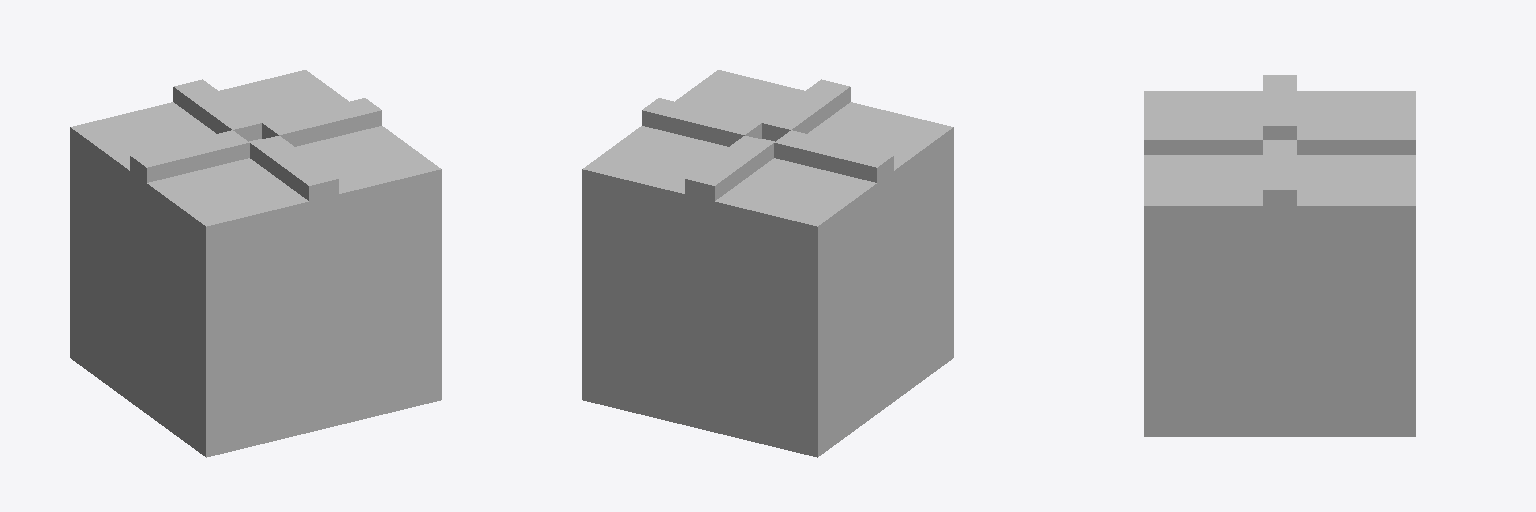
The model's file is Floor 4 Connections.obj.
3 renders of one model, left to right at view 1: azimuth 30°, elevation 25°; view 2: azimuth 150°, elevation 25°; view 3: azimuth 270°, elevation 25°, orthographic.
Parts seen in each view (by area): view 1: object 1; view 2: object 1; view 3: object 1.
Part boxes in pixels (x1,y1,x2,y2): object 1: (70, 70, 441, 457); object 1: (582, 70, 953, 457); object 1: (1144, 75, 1415, 436).
Bounding box in the file's own units: 1.6 × 1.6 × 1.6.